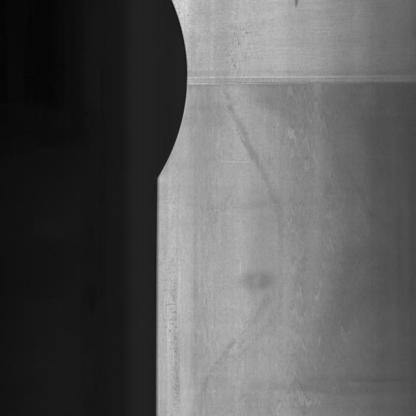crescent_gap: (141, 0, 198, 185)
welding_line: (182, 73, 416, 97)
